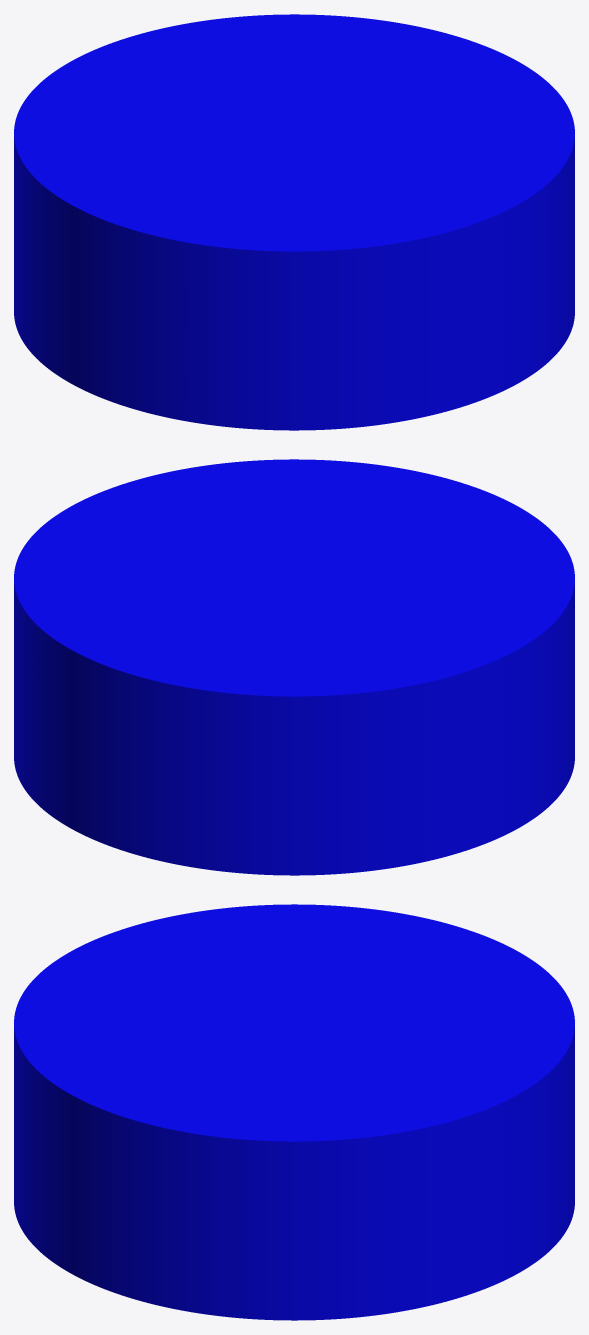
File: blue_tin.glb
3 views of the same model, one above another, from view 1: azimuth 30°, elevation 25°; view 2: azimuth 150°, elevation 25°; view 3: azimuth 270°, elevation 25° (orthographic).
Visible parts, largest first — view 1: Cylinder; view 2: Cylinder; view 3: Cylinder.
Part boxes in pixels (left/top/right/bottom): Cylinder: left=14, top=14, right=574, bottom=430; Cylinder: left=14, top=459, right=574, bottom=875; Cylinder: left=14, top=904, right=574, bottom=1320.
Size of the model in its own units: 0.081 by 0.0285 by 0.081.
